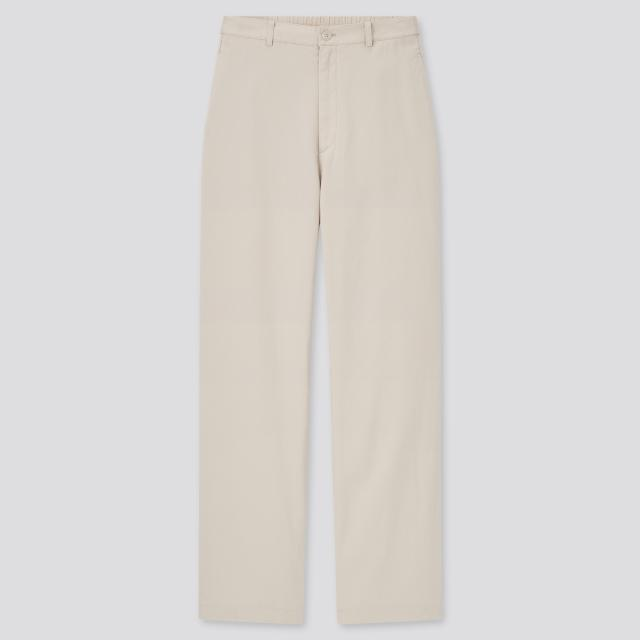long-pants: (197, 15, 449, 633)
